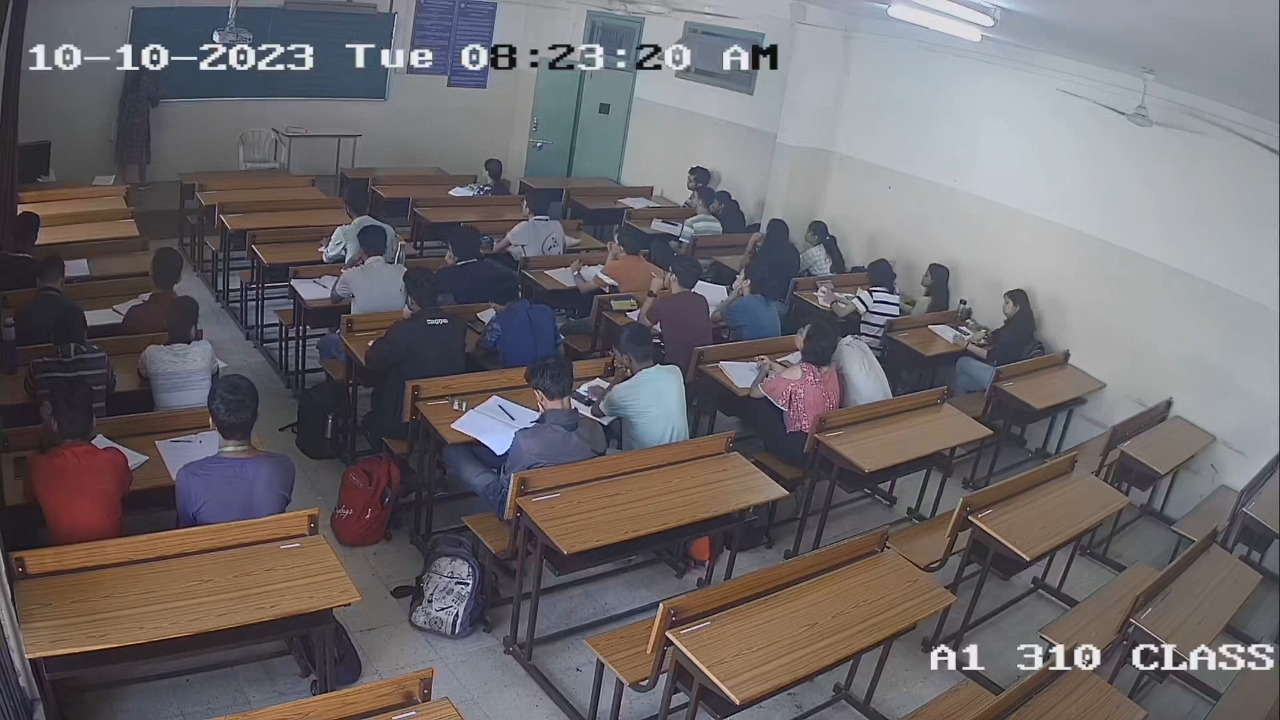cell-phones: (10, 453, 34, 483), (607, 295, 639, 314), (464, 317, 489, 339), (571, 388, 596, 408), (813, 279, 835, 291), (779, 358, 795, 370)
person: (24, 382, 134, 544), (590, 326, 690, 440), (752, 324, 841, 413), (636, 257, 714, 345), (479, 279, 557, 364), (824, 258, 902, 332)
